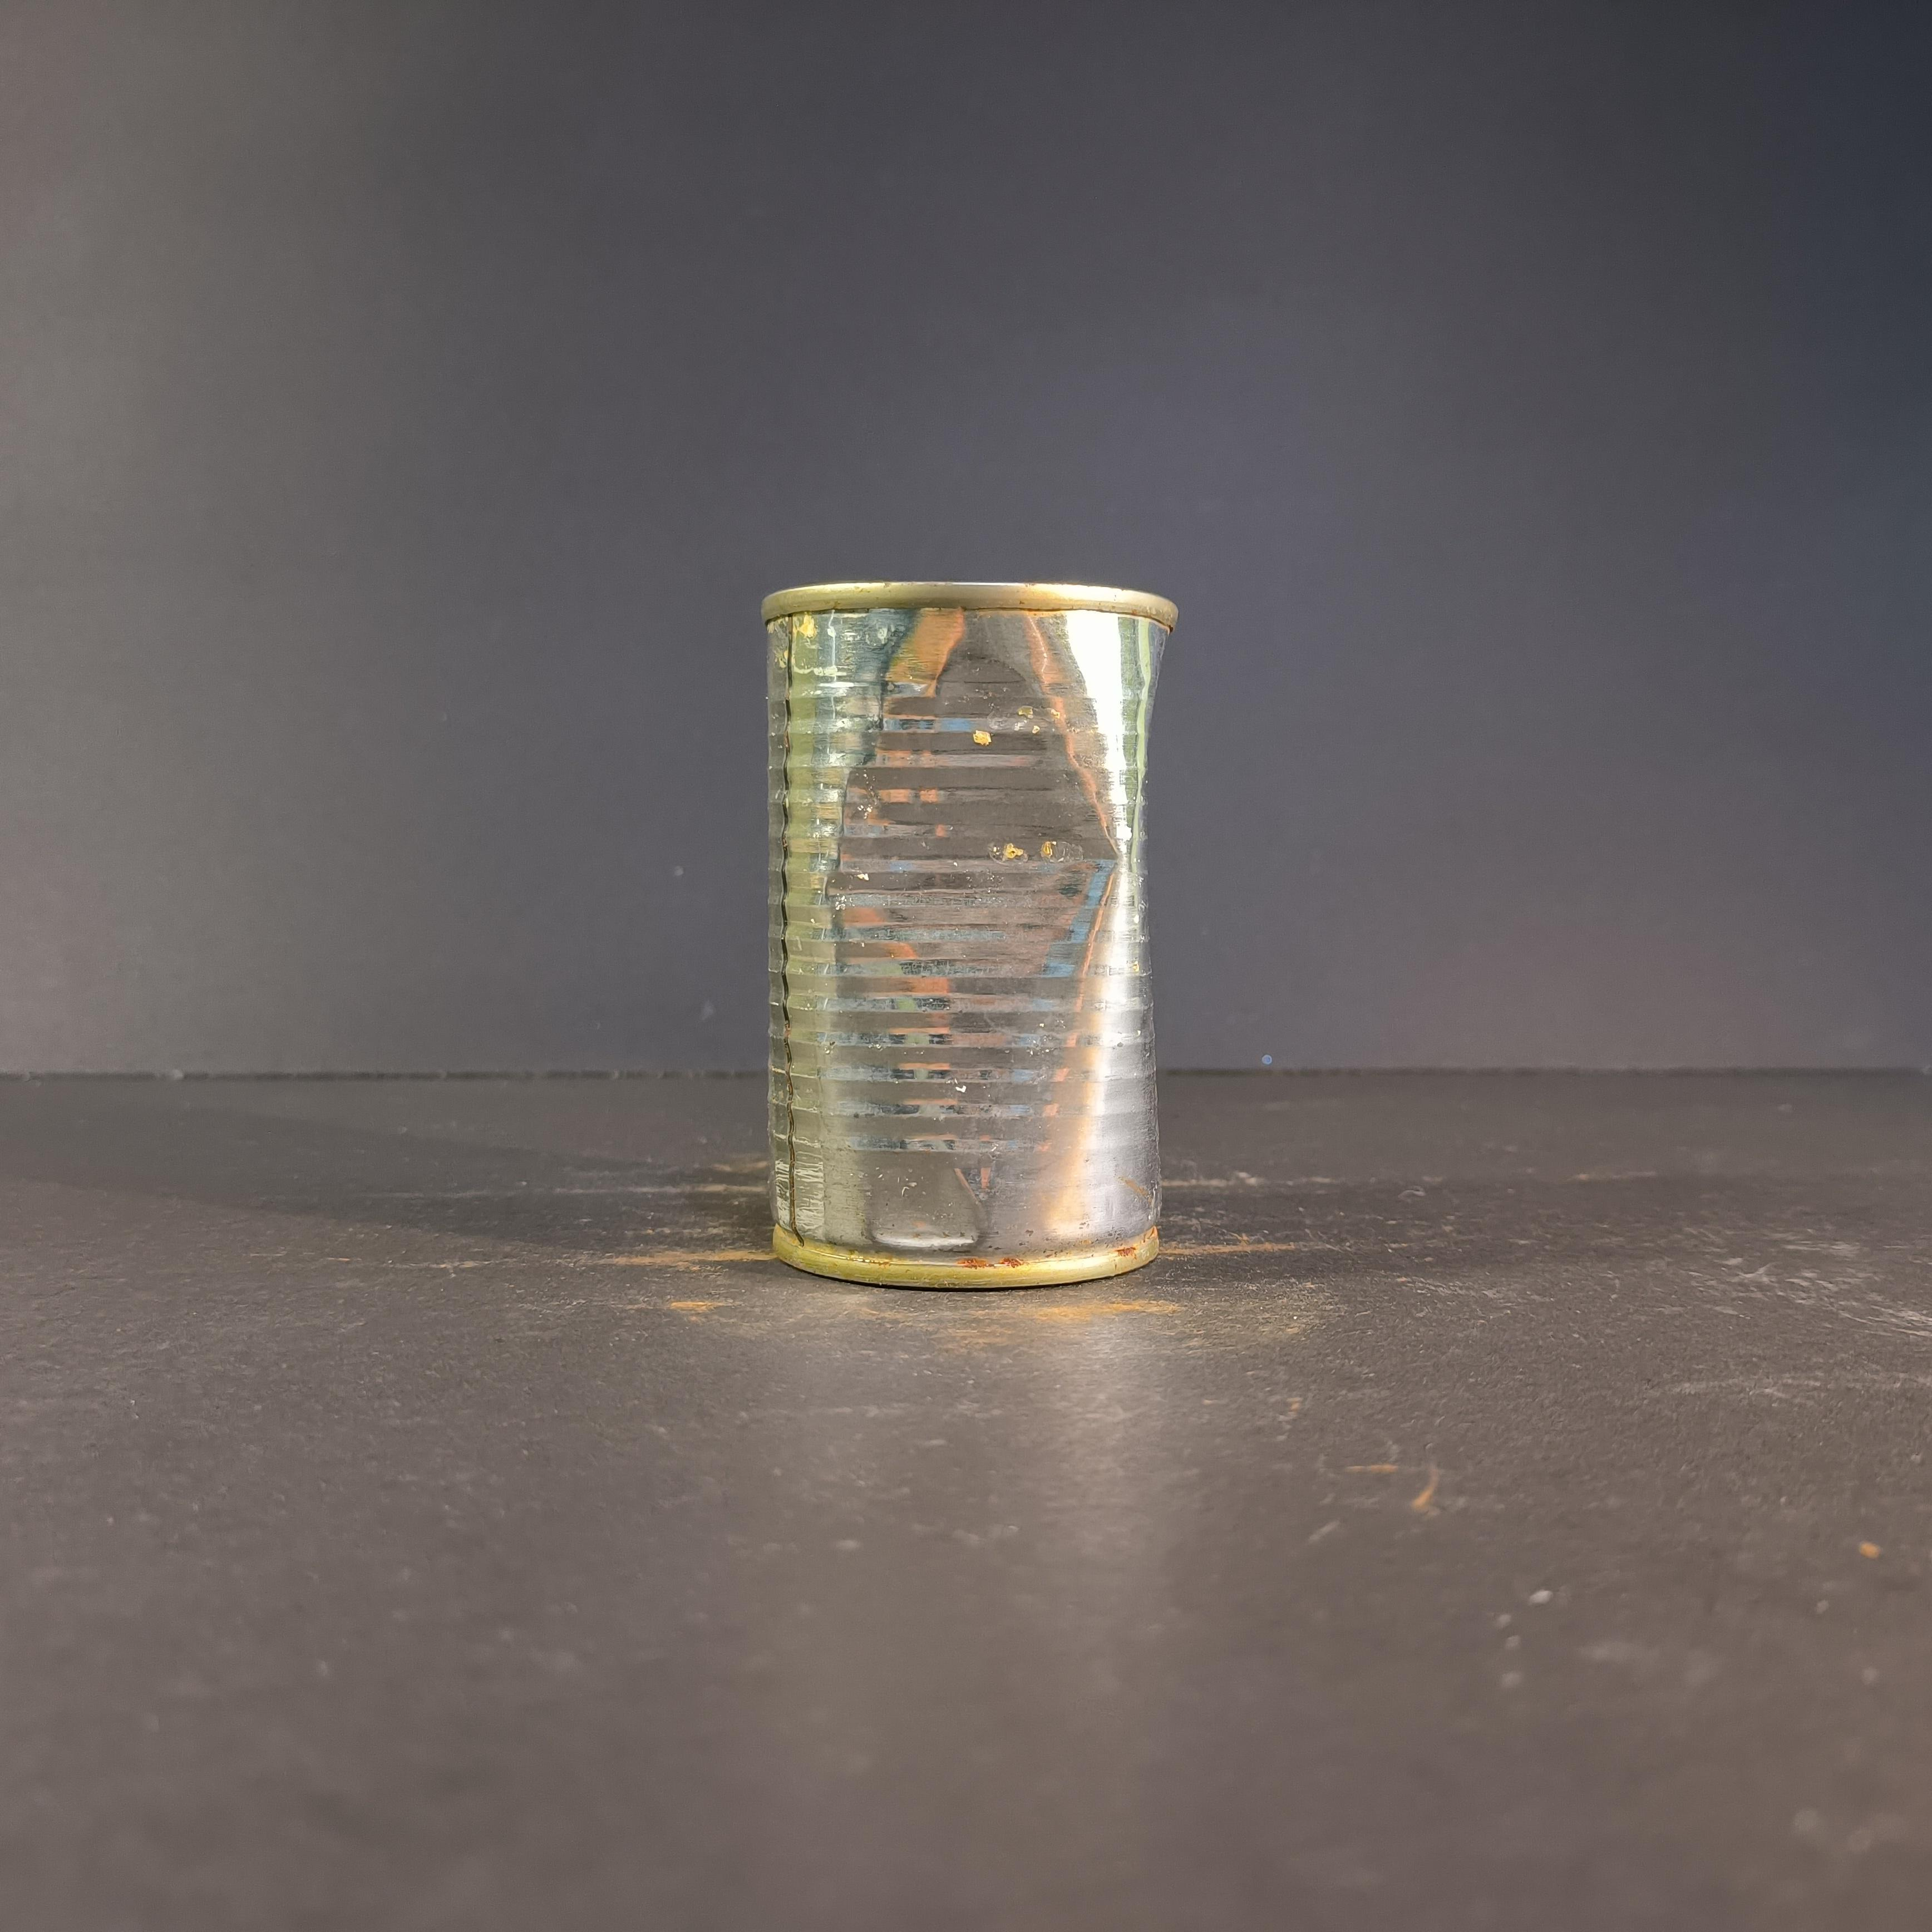Dented: (738, 550, 1182, 1338)
